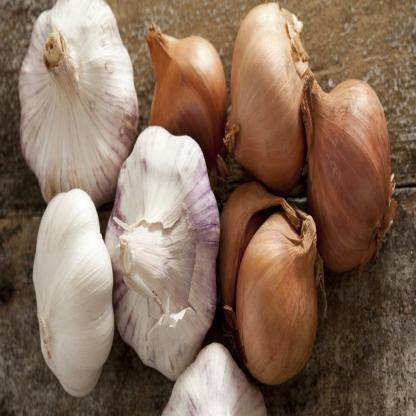onion: (301, 67, 404, 304), (228, 10, 314, 186)
